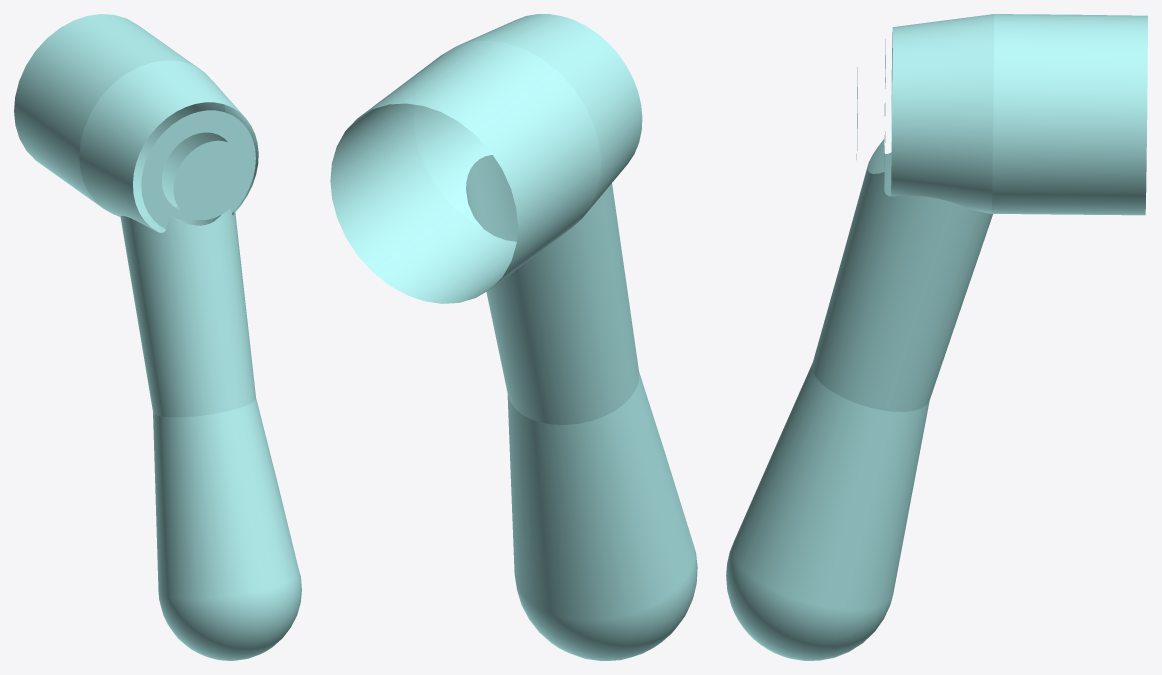
The model's file is QuillLock.fbx.
3 views of the same model, side by side, from view 1: azimuth 30°, elevation 25°; view 2: azimuth 150°, elevation 25°; view 3: azimuth 270°, elevation 25° (orthographic). The views are drawn at different scales.
Visible parts, largest first — view 1: Body2.114, Body3.045; view 2: Body2.114; view 3: Body2.114.
Part boxes in pixels (x1,y1,x2,y2): Body2.114: [14, 14, 301, 660]; Body3.045: [173, 140, 246, 219]; Body2.114: [330, 14, 697, 660]; Body2.114: [726, 14, 1147, 660].
Bounding box in the file's own units: 1.3 × 4.52 × 2.74.
